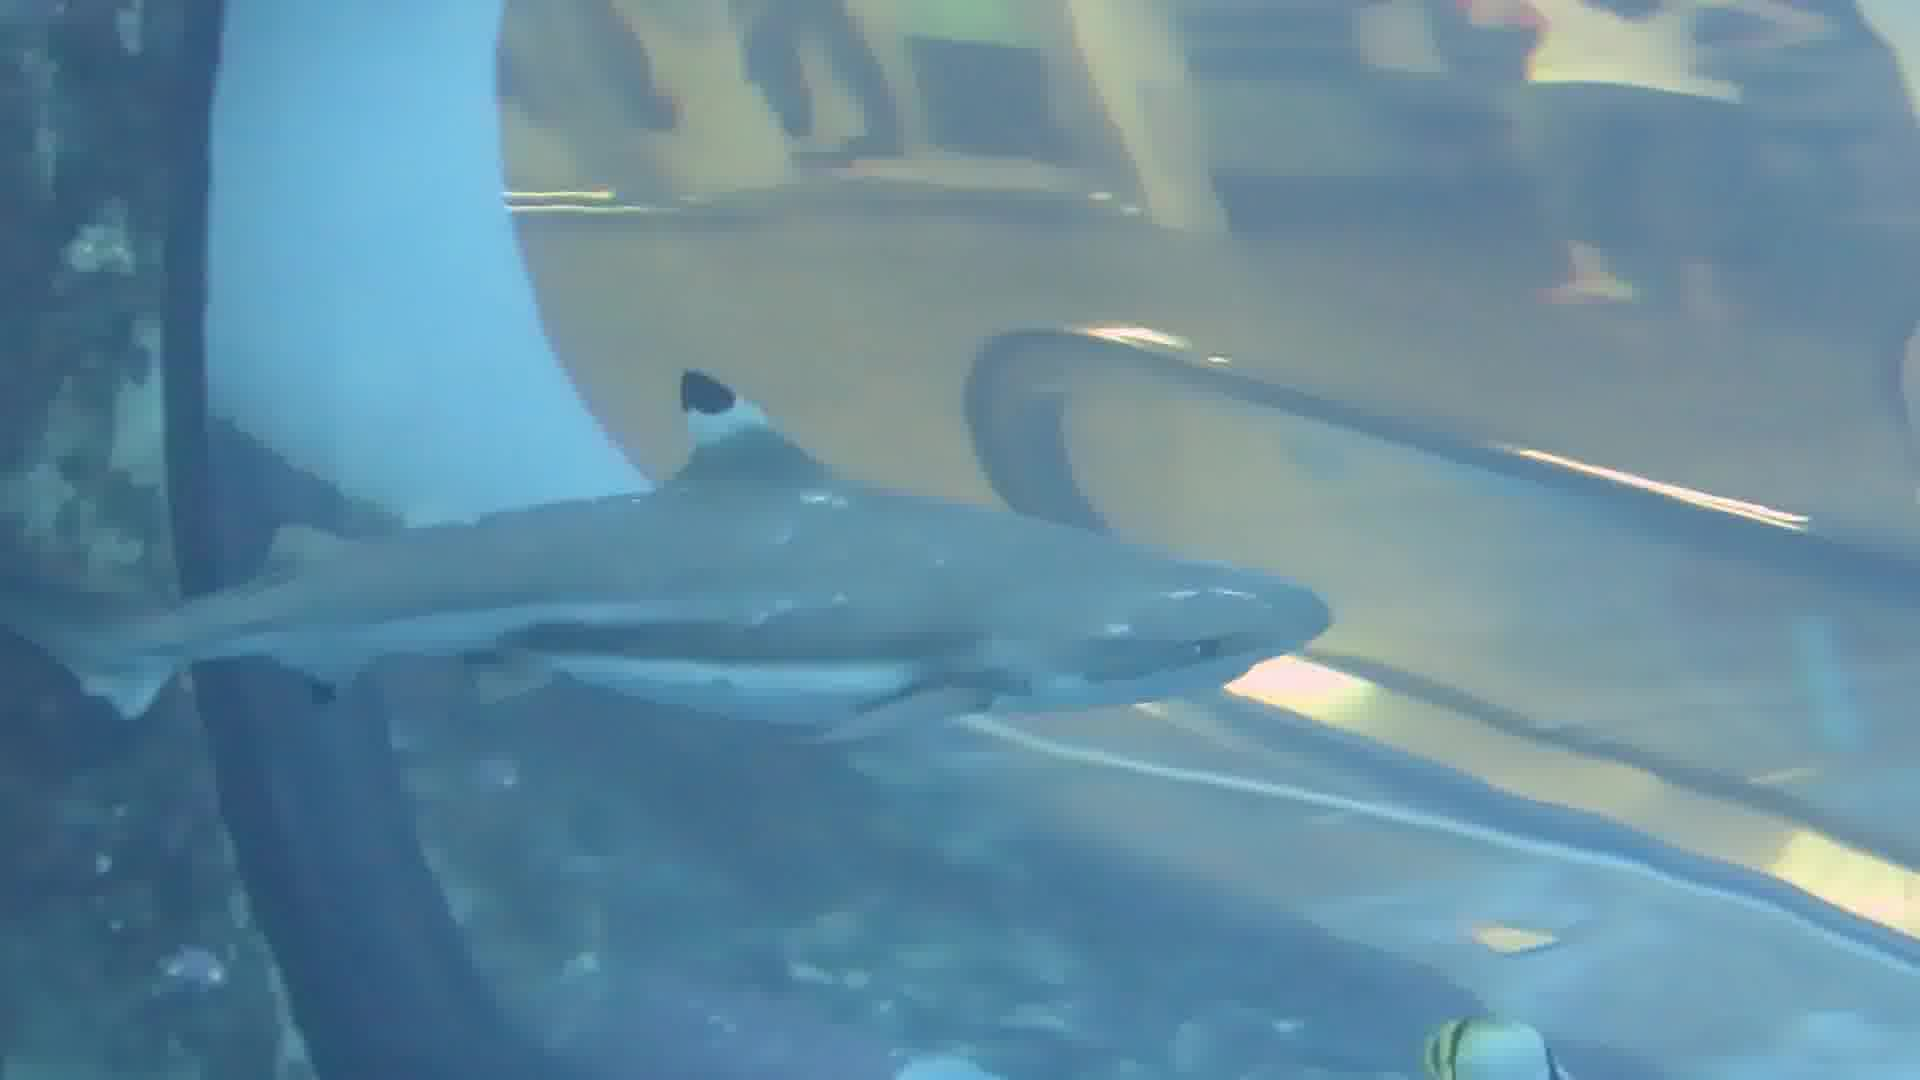Carcharhinus melanopterus: (22, 340, 1400, 802)
